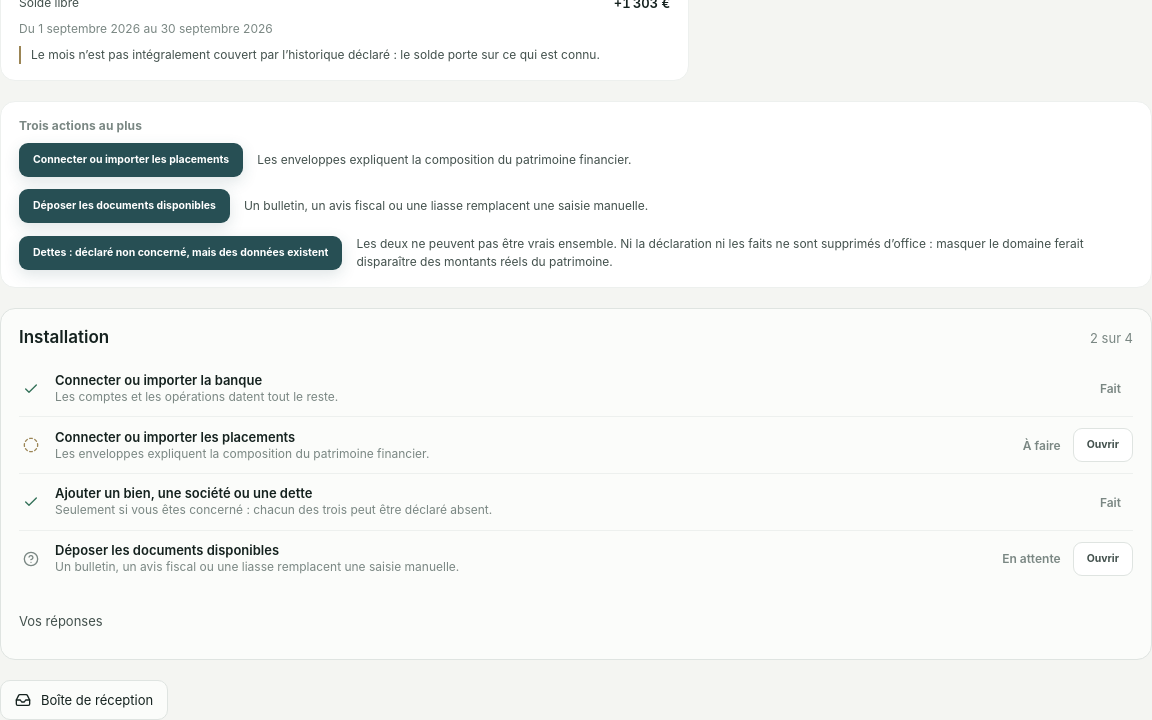
Test: boîte de réception — tiroir, six vues, quatre explications › se ferme au clavier, par Échap
(page scrolled)
Click the button "Boîte de réception" at (84, 700), box [0,680,168,719]
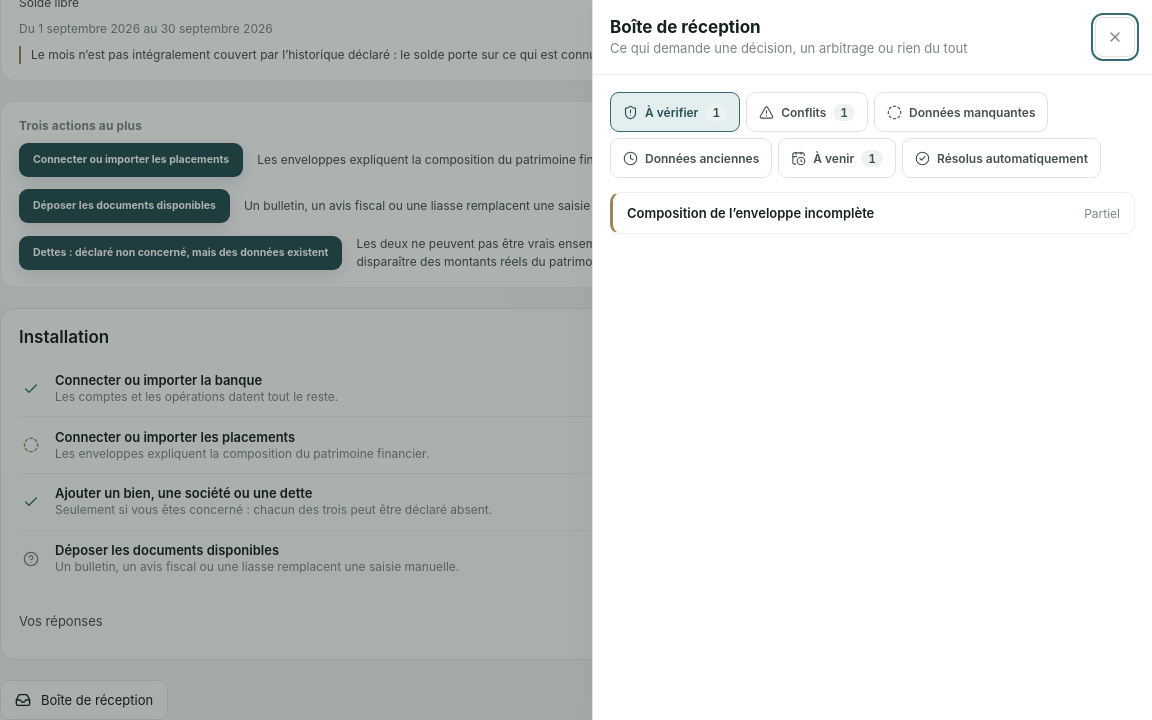
Expected: the dialog is shown, [592,0,1151,719]
Press Escape
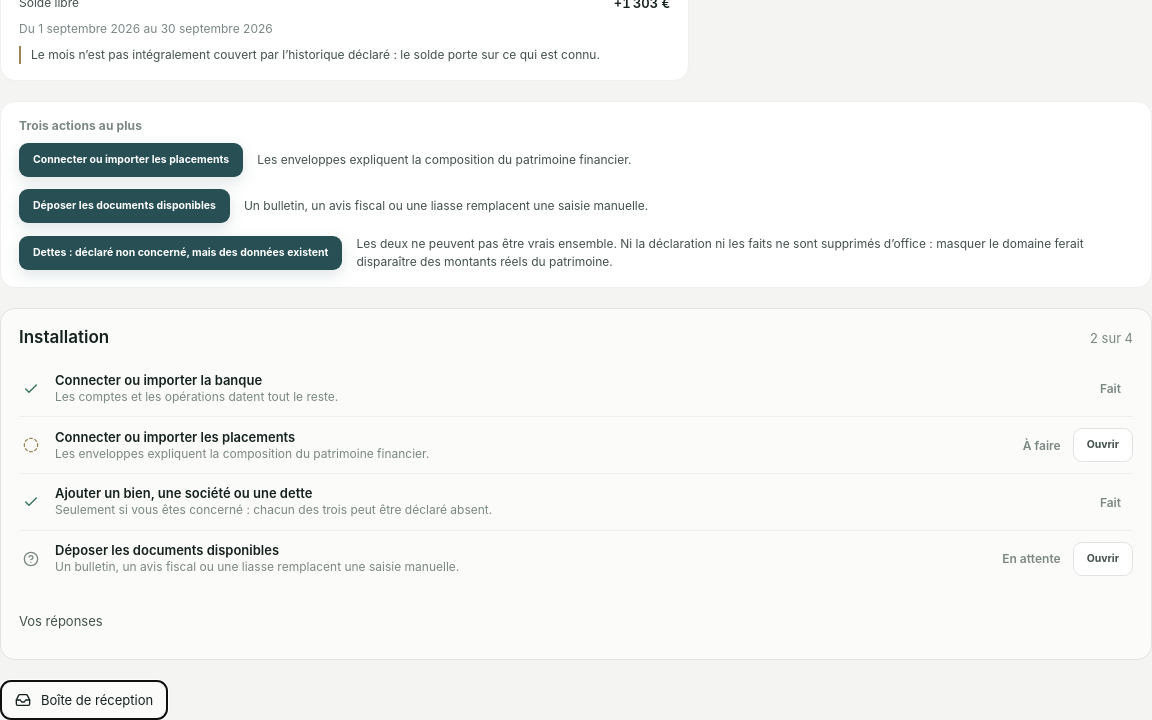
Expected: the dialog is gone
